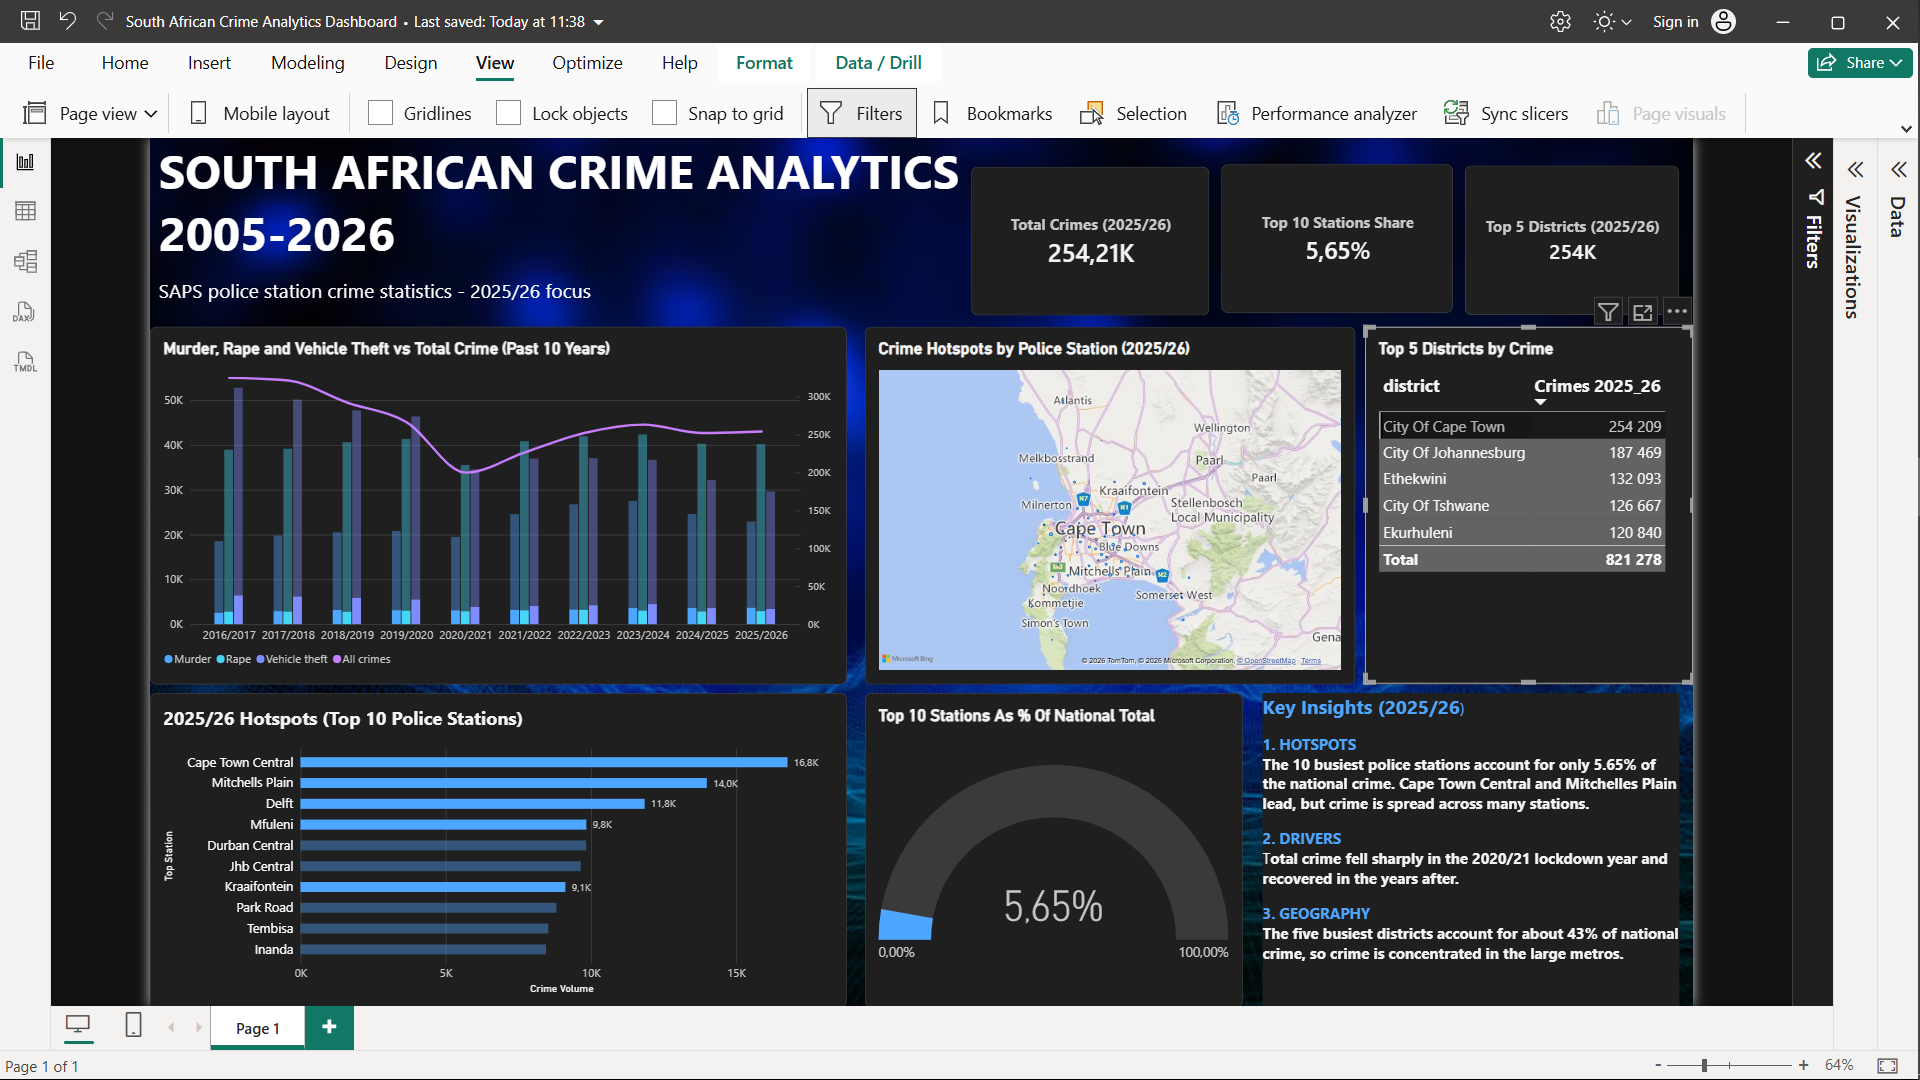

The page's visual inventory and layout, read from the dashboard file:
{"tool":"powerbi","page":{"name":"Page 1","canvas":[1920,1080],"ordinal":0},"visuals":[{"type":"textbox","box":[10.3,0,1321.4,253.2],"z":0},{"type":"group","id":"g1","title":"Group 1","box":[1022,36,296,186],"z":1000},{"type":"clusteredBarChart","title":"2025/26 Hotspots (Top 10 Police Stations)","fields":{"Category":["sapacr-2005-2026-v1 5.station"],"Y":["_Measures.Crimes 2025_26"]},"box":[0,689.5,866.6,391.1],"z":2000},{"type":"cardVisual","fields":{"Data":["_Measures.Crimes 2025_26"]},"box":[1022,36,296.4,185.2],"z":3000,"group":"g1"},{"type":"gauge","title":"Top 10 Stations As % Of National Total","fields":{"Y":["_Measures.Top 10 % Share"]},"box":[889.2,689.5,469.3,391.1],"z":3000},{"type":"lineClusteredColumnComboChart","title":"Murder, Rape and Vehicle Theft vs Total Crime (Past 10 Years)","fields":{"Category":["sapacr-2005-2026-v1 5.year"],"Y":["Sum(sapacr-2005-2026-v1 5.murder)","Sum(sapacr-2005-2026-v1 5.rape)","Sum(sapacr-2005-2026-v1 5.vehicle_theft)"],"Y2":["_Measures.Total Crimes"]},"box":[0,234.6,866.6,444.6],"z":4000},{"type":"map","title":"Crime Hotspots by Police Station (2025/26)","fields":{"Category":["sapacr-2005-2026-v1 5.station"],"Size":["_Measures.Crimes 2025_26"],"X":["Avg(sapacr-2005-2026-v1 5.longitude)"],"Y":["Avg(sapacr-2005-2026-v1 5.latitude)"]},"box":[889.2,234.6,609.3,444.6],"z":5000},{"type":"tableEx","title":"Top 5 Districts by Crime","fields":{"Values":["sapacr-2005-2026-v1 5.district","_Measures.Crimes 2025_26"]},"box":[1510.8,234.6,409.6,444.6],"z":6000},{"type":"cardVisual","fields":{"Data":["_Measures.Top 10 % Share"]},"box":[1332,32,288.2,185.2],"z":7000},{"type":"textbox","box":[1384,690,518,390],"z":8000},{"type":"cardVisual","fields":{"Data":["_Measures.Top 5 Districts"]},"box":[1636,34,266,186],"z":9000}]}

Visuals, with their boxes on the page's 1920x1080 design canvas (x1, y1, x2, y2). These are canvas units, not pixel positions in the 1920x1080 screenshot, which may show the page scaled, cropped or inside an application window:
textbox: l=10, t=0, r=1332, b=253
"Group 1" group: l=1022, t=36, r=1318, b=222
"2025/26 Hotspots (Top 10 Police Stations)" clusteredBarChart: l=0, t=690, r=867, b=1081
cardVisual - _Measures.Crimes 2025_26: l=1022, t=36, r=1318, b=221
"Top 10 Stations As % Of National Total" gauge: l=889, t=690, r=1358, b=1081
"Murder, Rape and Vehicle Theft vs Total Crime (Past 10 Years)" lineClusteredColumnComboChart: l=0, t=235, r=867, b=679
"Crime Hotspots by Police Station (2025/26)" map: l=889, t=235, r=1498, b=679
"Top 5 Districts by Crime" tableEx: l=1511, t=235, r=1920, b=679
cardVisual - _Measures.Top 10 % Share: l=1332, t=32, r=1620, b=217
textbox: l=1384, t=690, r=1902, b=1080
cardVisual - _Measures.Top 5 Districts: l=1636, t=34, r=1902, b=220
